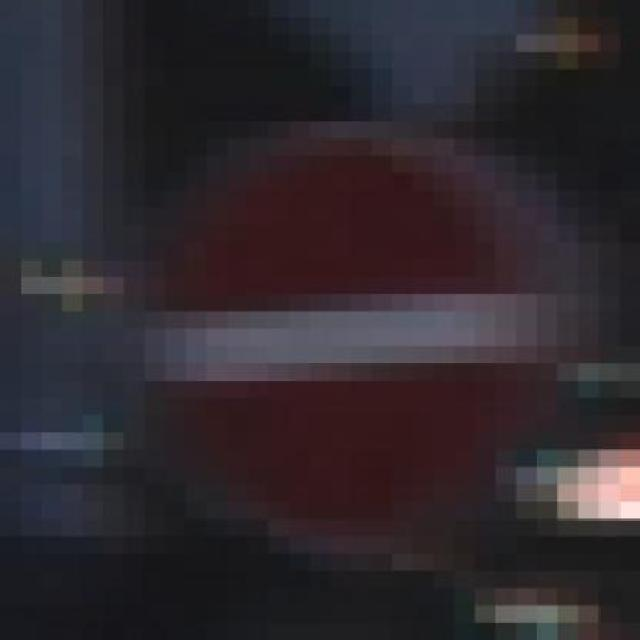No Entry: (103, 121, 599, 553)
